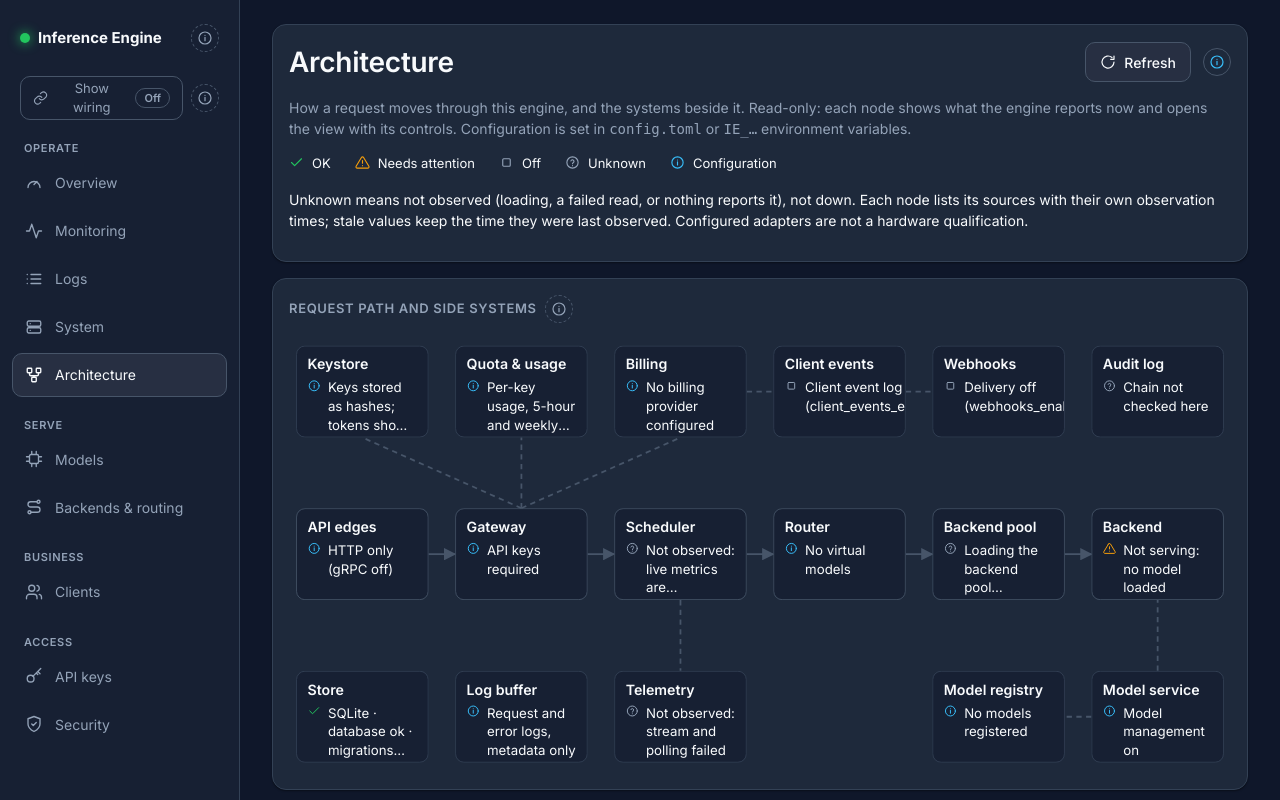
Architecture across session changes › ends the session on its own auth failure, and a late read changes nothing
Expected: the heading "Architecture" is shown, [289, 41, 454, 83]
Step 1. Click the button "Refresh" → (1138,62), box [1085, 42, 1191, 82]
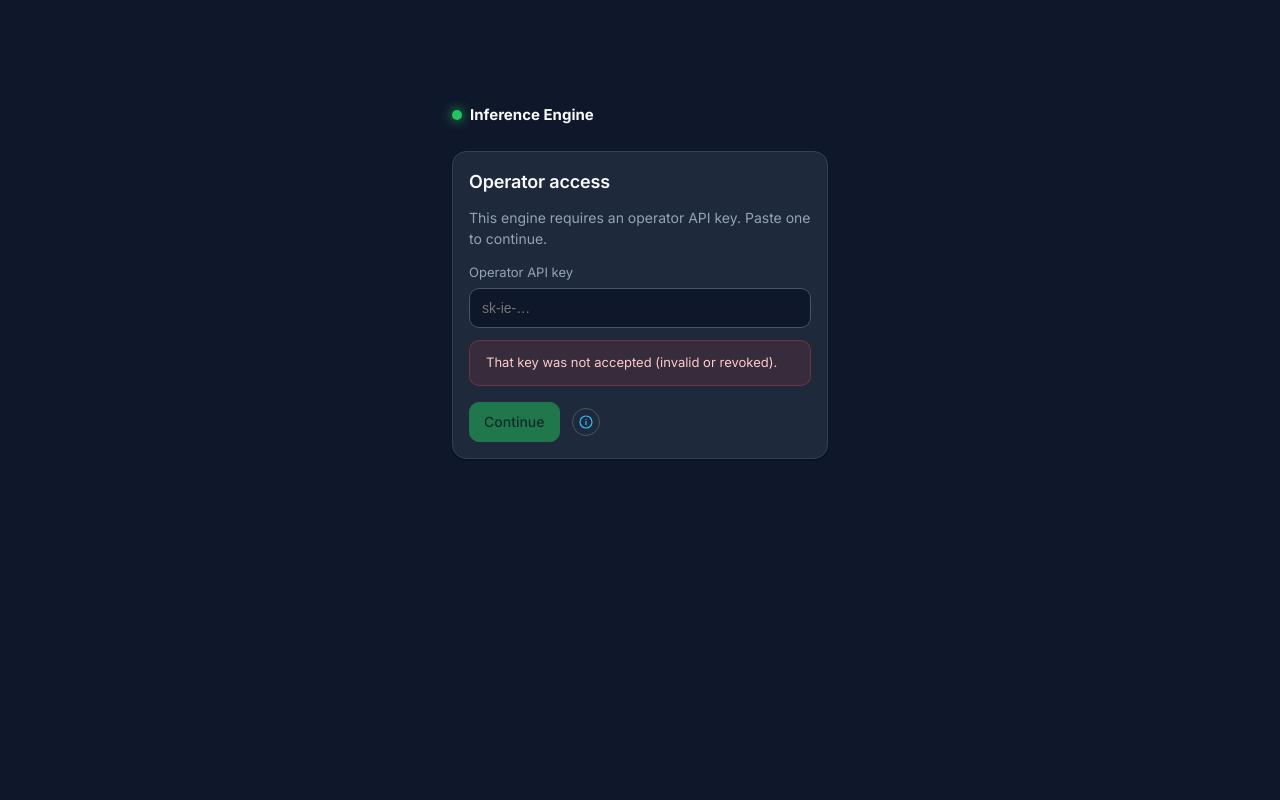
Expected: the heading "Operator access" is shown, [469, 170, 610, 192]
